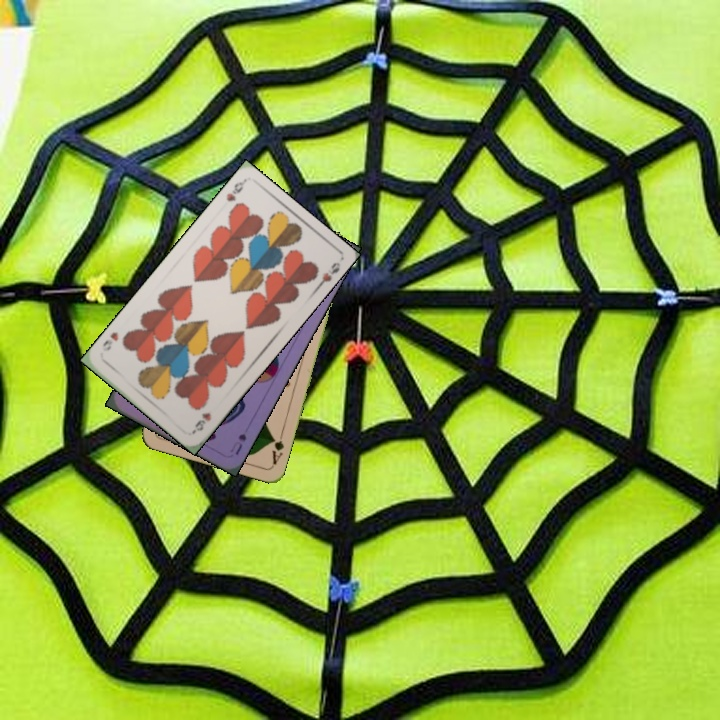GA: (268, 428, 287, 467)
H9: (222, 177, 247, 204), (190, 408, 214, 434)
SU: (226, 429, 249, 458)
